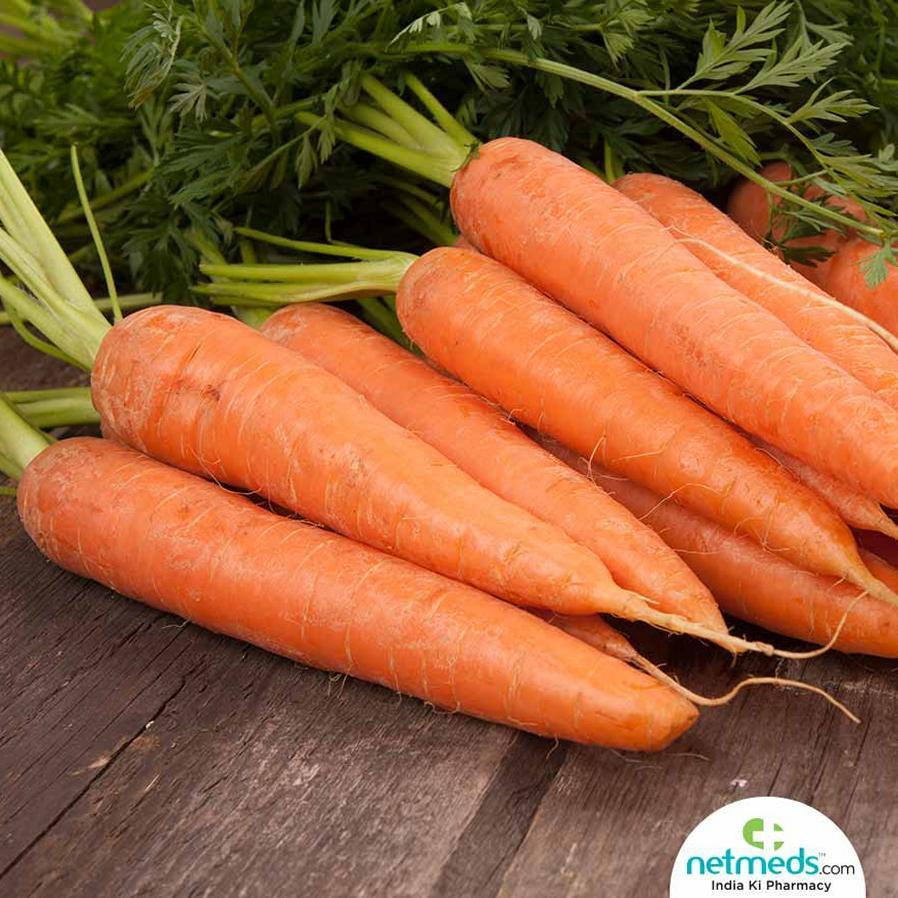carrot: (28, 303, 730, 758)
